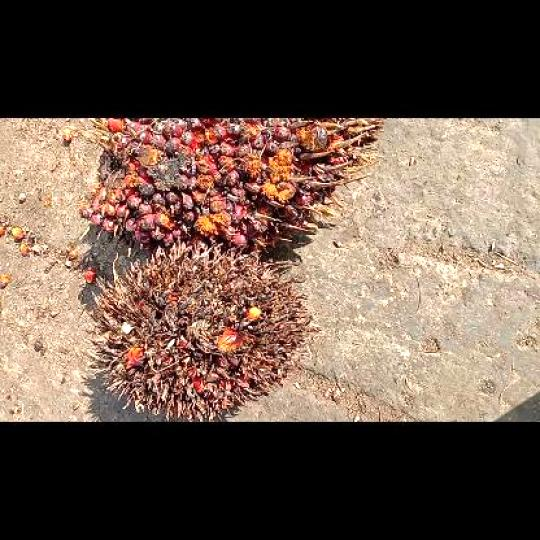masak: (79, 118, 375, 248)
terlalu masak: (93, 240, 312, 419)
